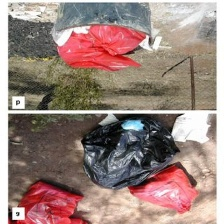plastic_bag: (79, 114, 182, 192), (55, 28, 142, 80), (125, 162, 201, 215), (12, 176, 85, 224), (85, 20, 144, 57), (64, 216, 96, 223)
